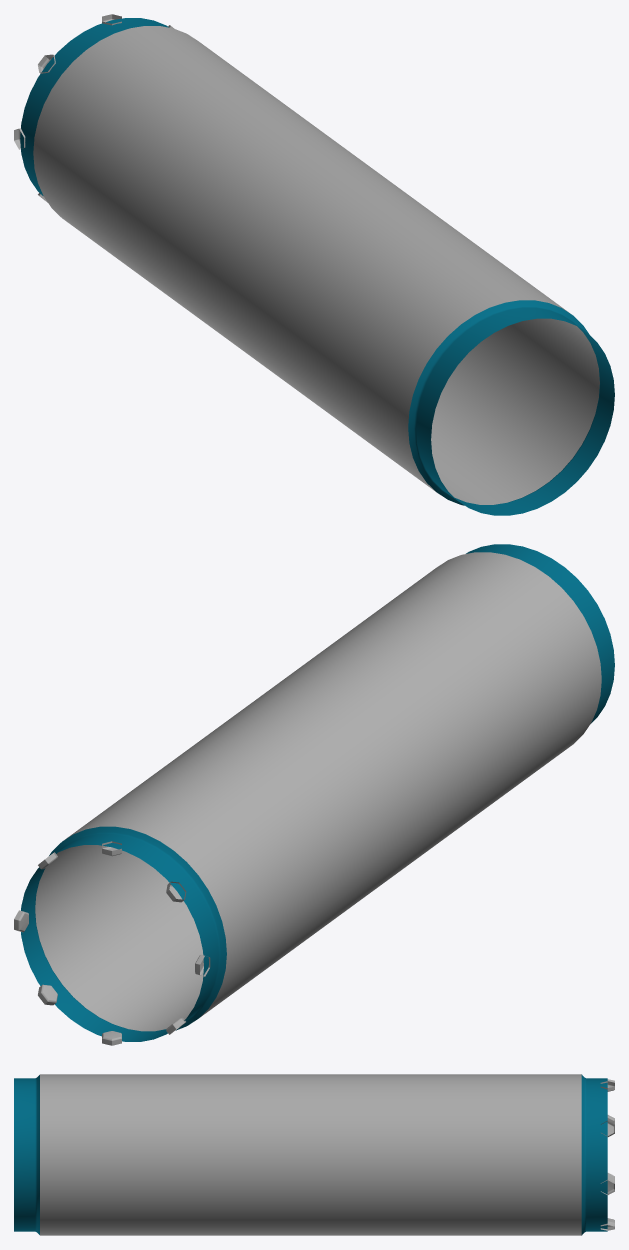
File: tube_start_end_01.fbx
3 renders of one model, top to bottom at view 1: azimuth 30°, elevation 25°; view 2: azimuth 150°, elevation 25°; view 3: azimuth 270°, elevation 25°, orthographic. The views are drawn at different scales.
Parts seen in each view (by area): view 1: tube_start_end_01; view 2: tube_start_end_01; view 3: tube_start_end_01.
Boxes of the visible parts, x1=… form: tube_start_end_01: x1=14, y1=14, x2=614, y2=515; tube_start_end_01: x1=14, y1=544, x2=614, y2=1045; tube_start_end_01: x1=14, y1=1074, x2=614, y2=1235.
Size of the model in its own units: 1000 by 1000 by 3720.
